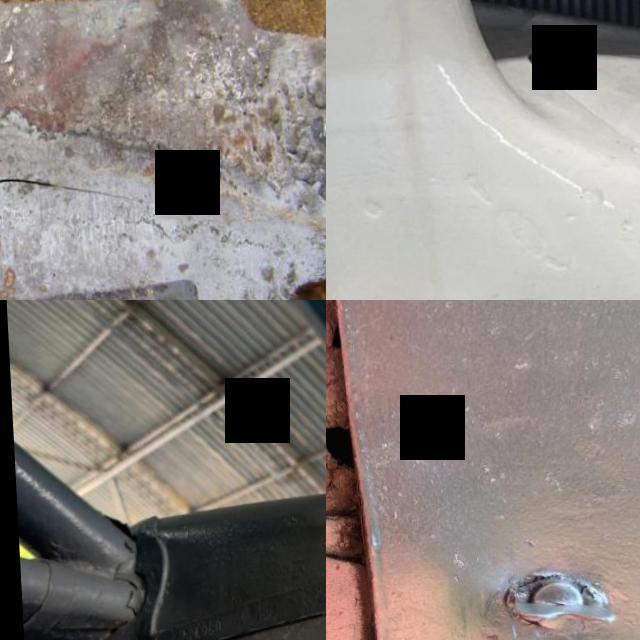Crack: (0, 171, 135, 205), (326, 365, 363, 489)
Dent: (481, 208, 546, 266), (452, 172, 496, 210), (560, 186, 608, 214), (514, 256, 572, 278), (352, 198, 384, 222), (606, 219, 635, 240), (552, 212, 576, 226)
